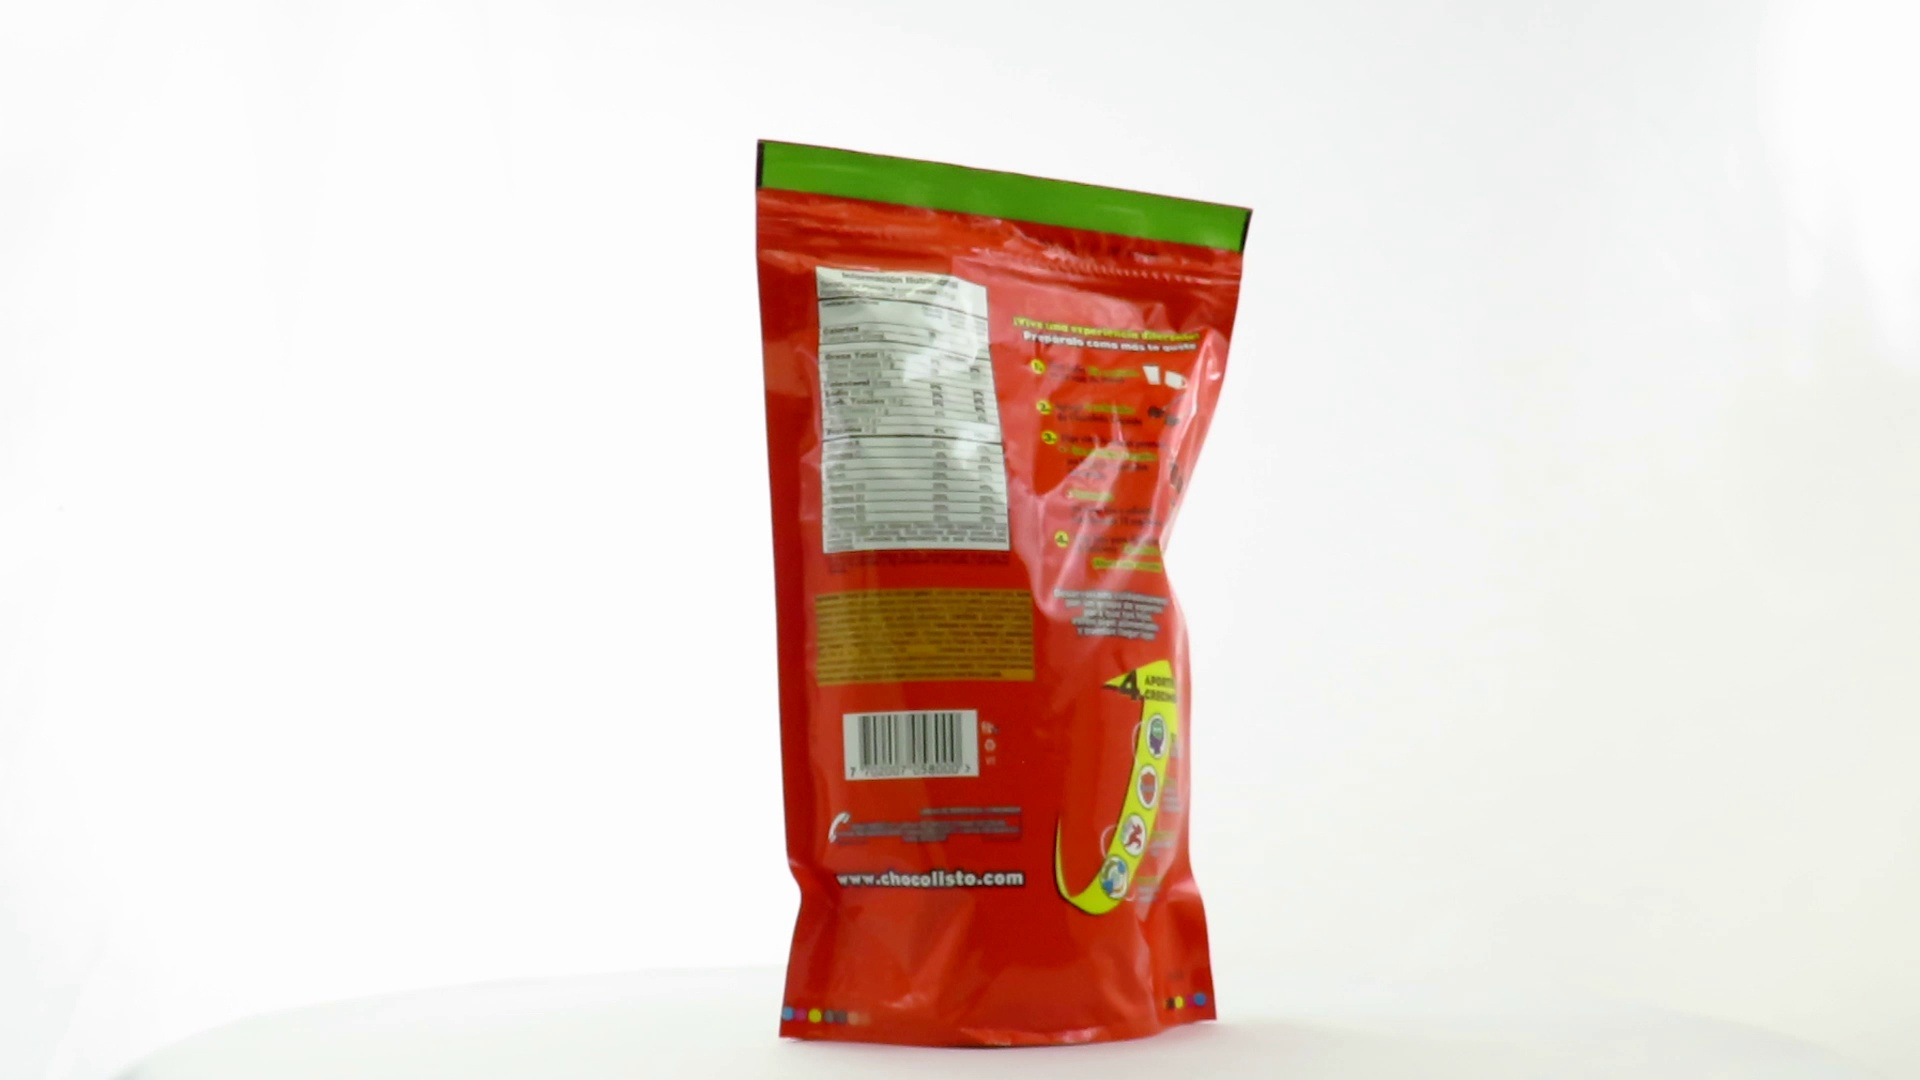COL0170102DYP50000: (750, 135, 1259, 1056)
